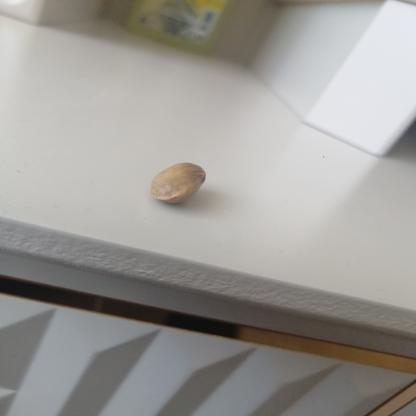pistachio: (148, 153, 214, 213)
